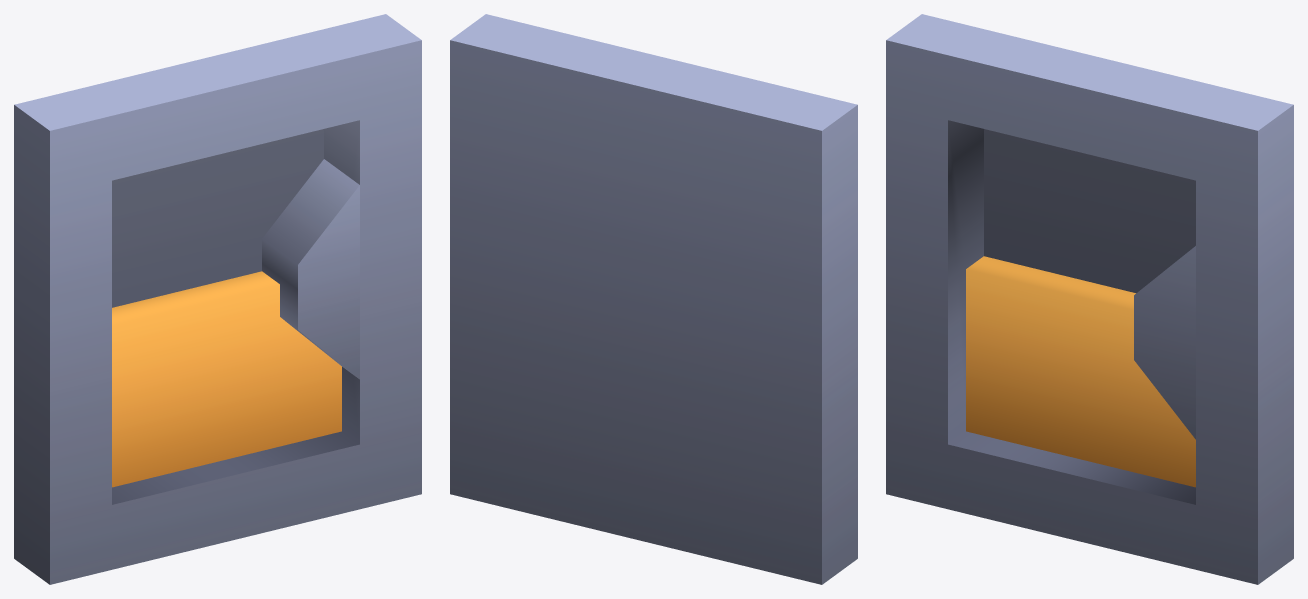
Rendered from kenney-space-station-door-double-closed.glb.
The picture shows the model from 3 angles, left to right: view 1: azimuth 30°, elevation 25°; view 2: azimuth 150°, elevation 25°; view 3: azimuth 330°, elevation 25°; orthographic projection.
Visible parts, largest first — view 1: door-double-closed; view 2: door-double-closed; view 3: door-double-closed.
Part boxes in pixels (box(x1,y1,x2,y2)): door-double-closed: box(14, 14, 421, 584); door-double-closed: box(450, 14, 857, 584); door-double-closed: box(886, 14, 1293, 584).
Size of the model in its own units: 0.6 by 0.7 by 0.1.
Materials: 1 (1 with a texture image).
